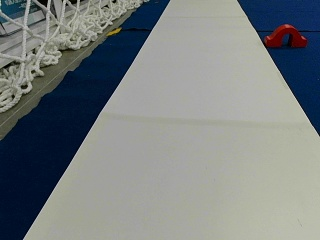bridge: (266, 24, 307, 46)
